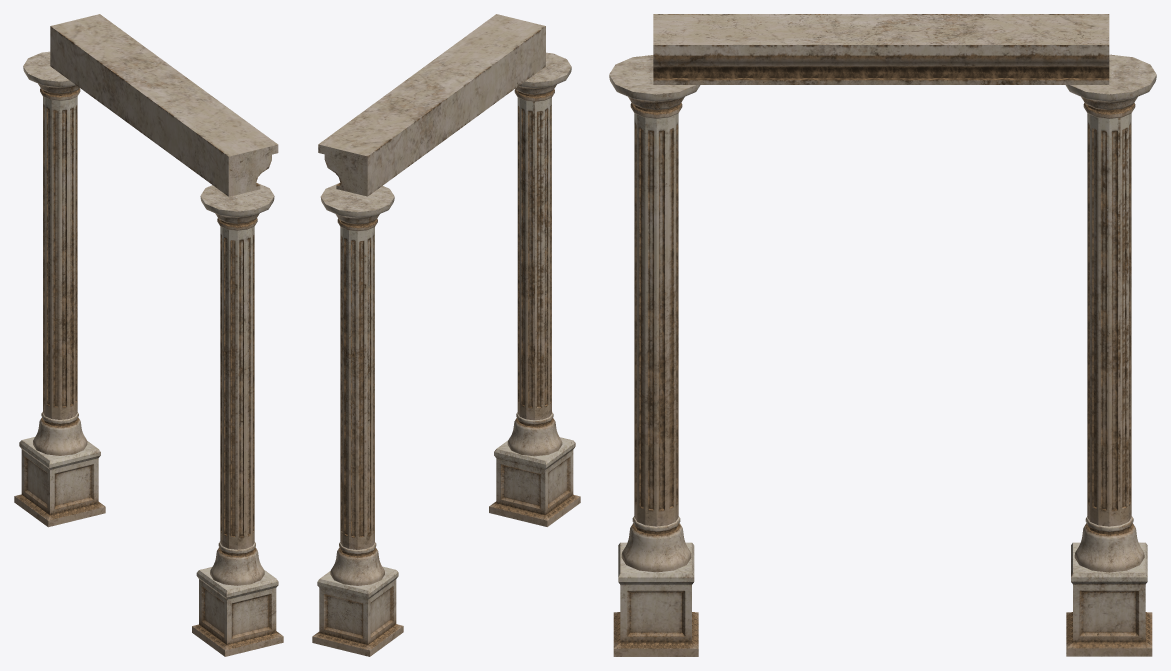
File: cistern_gate.glb
The picture shows the model from 3 angles, left to right: view 1: azimuth 30°, elevation 25°; view 2: azimuth 150°, elevation 25°; view 3: azimuth 270°, elevation 25°; orthographic projection. The views are drawn at different scales.
Visible parts, largest first — view 1: Loft001, Cylinder003, Cylinder004, Box001, Box002, Line003, Line001, Line005, Line006; view 2: Loft001, Cylinder003, Cylinder004, Box002, Box001, Line006, Line001, Line005, Line003; view 3: Loft001, Cylinder004, Cylinder003, Box002, Box001, Line006, Line003, Line005, Line001.
Boxes of the visible parts, bbox=[...] form: Loft001: bbox=[50, 14, 278, 196]; Cylinder003: bbox=[220, 226, 254, 549]; Cylinder004: bbox=[43, 96, 77, 419]; Box001: bbox=[192, 567, 283, 656]; Box002: bbox=[14, 437, 105, 527]; Line003: bbox=[200, 183, 274, 230]; Line001: bbox=[210, 541, 264, 585]; Line005: bbox=[33, 412, 87, 455]; Line006: bbox=[23, 51, 80, 100]; Loft001: bbox=[318, 14, 545, 196]; Cylinder003: bbox=[517, 97, 551, 420]; Cylinder004: bbox=[340, 227, 374, 549]; Box002: bbox=[312, 566, 403, 656]; Box001: bbox=[489, 437, 580, 526]; Line006: bbox=[320, 183, 394, 231]; Line001: bbox=[507, 412, 562, 456]; Line005: bbox=[330, 542, 384, 585]; Line003: bbox=[514, 52, 571, 101]; Loft001: bbox=[653, 14, 1109, 84]; Cylinder004: bbox=[1087, 113, 1131, 526]; Cylinder003: bbox=[634, 113, 678, 526]; Box002: bbox=[1066, 542, 1152, 656]; Box001: bbox=[613, 542, 698, 656]; Line006: bbox=[1065, 54, 1156, 118]; Line003: bbox=[609, 55, 700, 118]; Line005: bbox=[1074, 516, 1144, 572]; Line001: bbox=[621, 516, 691, 572].
Bounding box in the file's own units: 16.42 × 106 × 84.94.
Materials: 5 (5 with a texture image).
